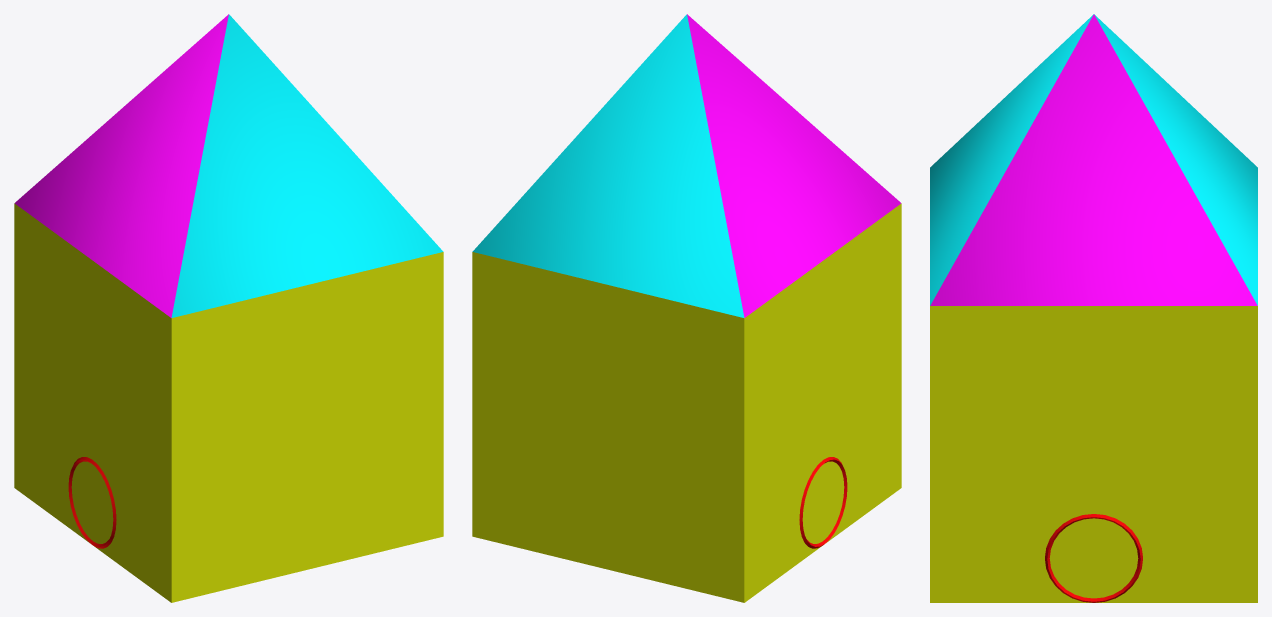
Rendered from punto4.glb.
3 views of the same model, side by side, from view 1: azimuth 30°, elevation 25°; view 2: azimuth 150°, elevation 25°; view 3: azimuth 270°, elevation 25° (orthographic). The views are drawn at different scales.
Parts seen in each view (by area): view 1: punto4; view 2: punto4; view 3: punto4.
Part boxes in pixels (bbox=[...]): punto4: bbox=[14, 14, 443, 602]; punto4: bbox=[472, 14, 901, 602]; punto4: bbox=[930, 14, 1257, 602].
Size of the model in its own units: 0.5156 by 0.889 by 0.508.
